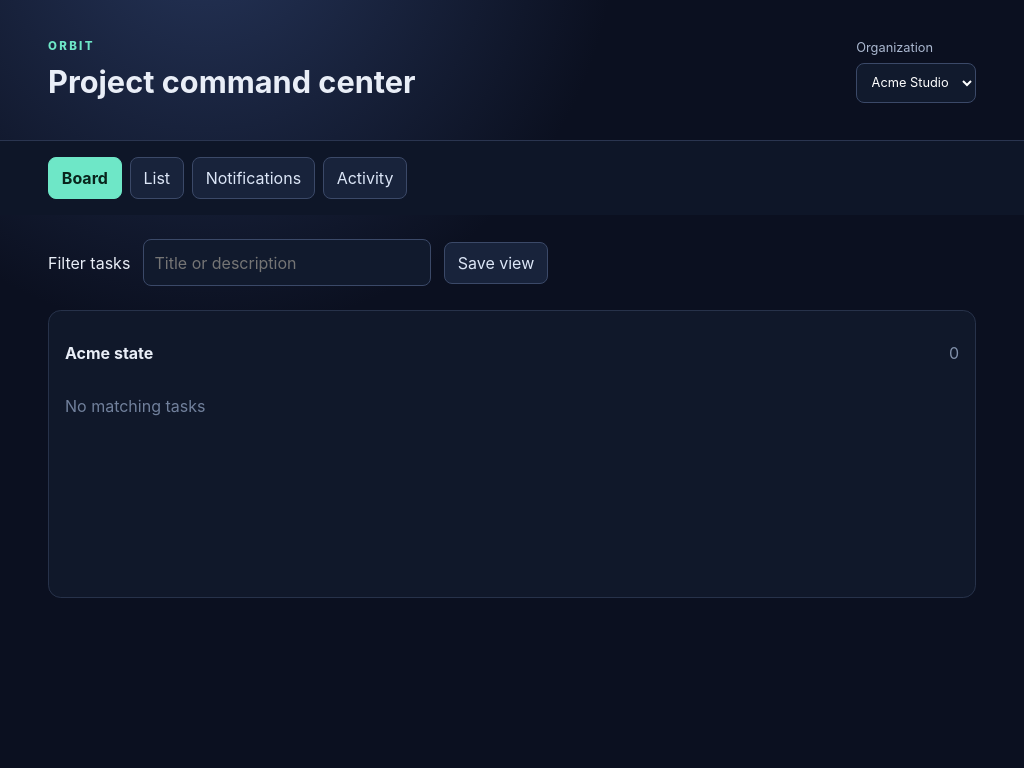
Test case: board UI › clears the old board immediately when switching tenants
Expected: the heading "Acme state" is shown, [65,340,153,364]
Select "Globex Labs" in the dropdown labelled "Organization": (916, 83) [856,63,976,102]
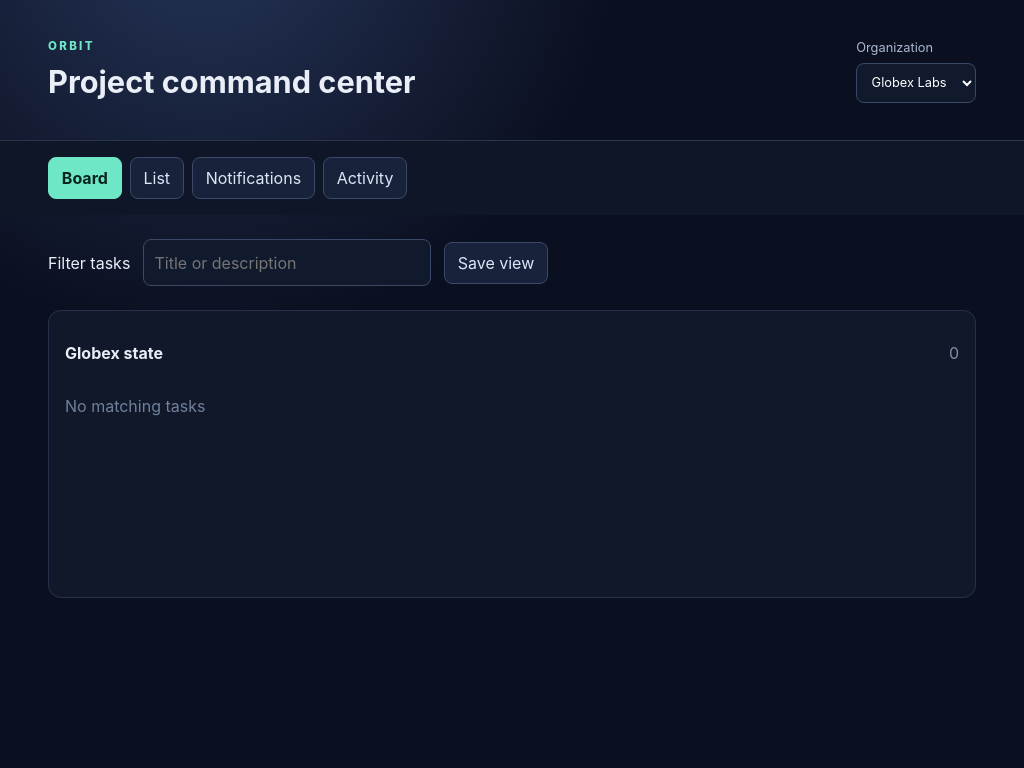
Expected: the heading "Acme state" is gone
Expected: the heading "Globex state" is shown, [65,340,163,364]
